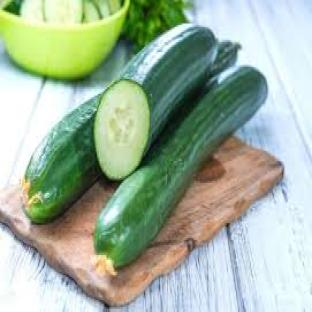Cucumber: (95, 68, 267, 275), (95, 24, 216, 179), (22, 94, 101, 223), (211, 41, 240, 75)
